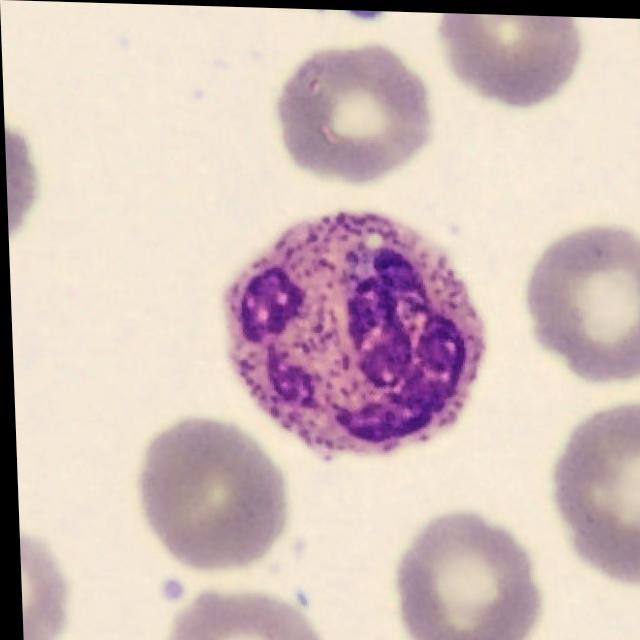Neutrofilo segmentado: (220, 206, 484, 457)
